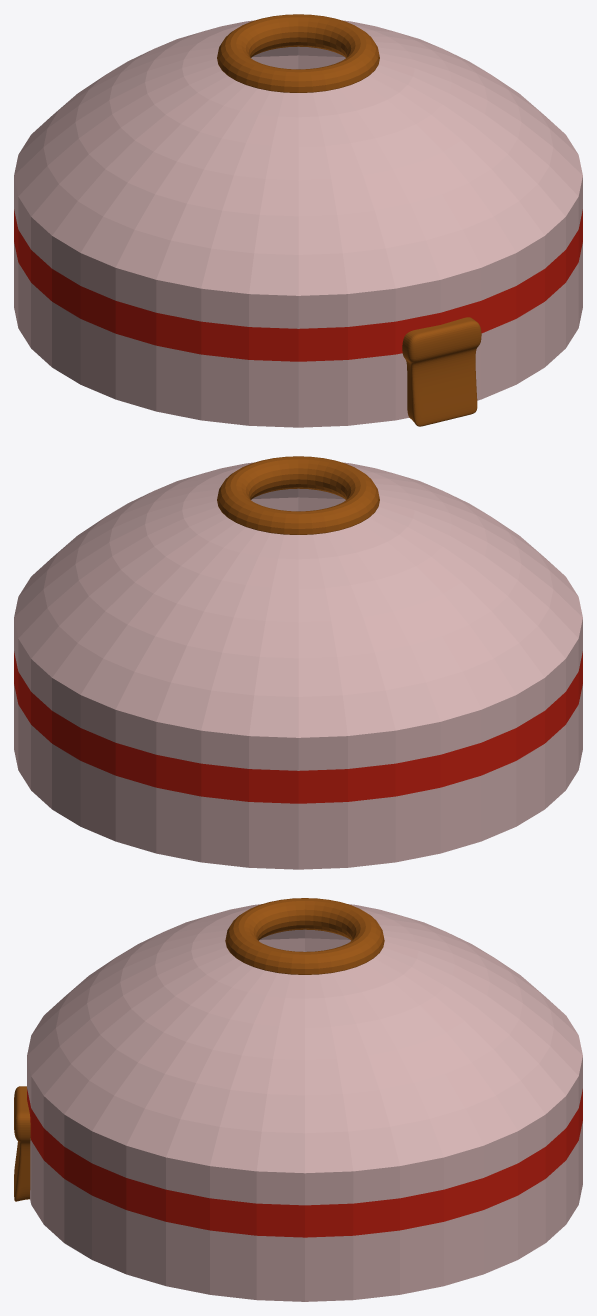
Rendered from юрта2 (1).fbx.
The picture shows the model from 3 angles, top to bottom: view 1: azimuth 30°, elevation 25°; view 2: azimuth 150°, elevation 25°; view 3: azimuth 270°, elevation 25°; orthographic projection. The views are drawn at different scales.
Parts seen in each view (by area): view 1: юрта1_1; view 2: юрта1_1; view 3: юрта1_1.
Part boxes in pixels (bbox=[...]): юрта1_1: bbox=[14, 14, 582, 427]; юрта1_1: bbox=[14, 456, 582, 869]; юрта1_1: bbox=[14, 898, 582, 1301].
Size of the model in its own units: 200 by 104 by 205.
